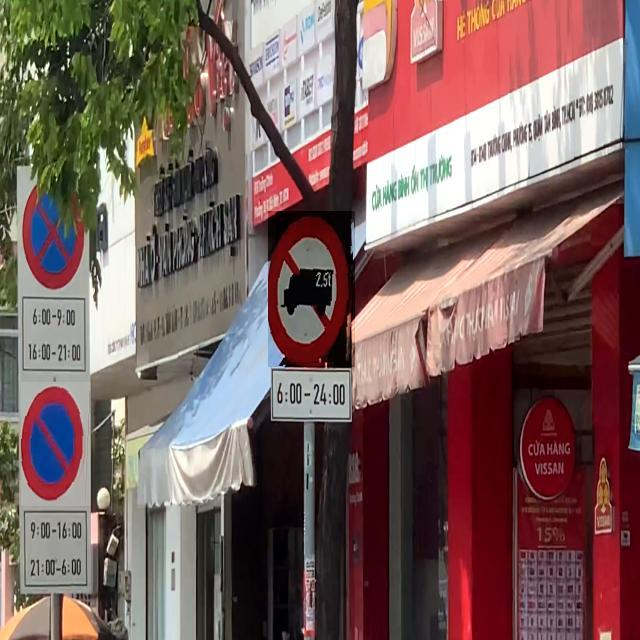P-106b: (268, 211, 355, 367)
P-131a: (21, 382, 91, 506)
